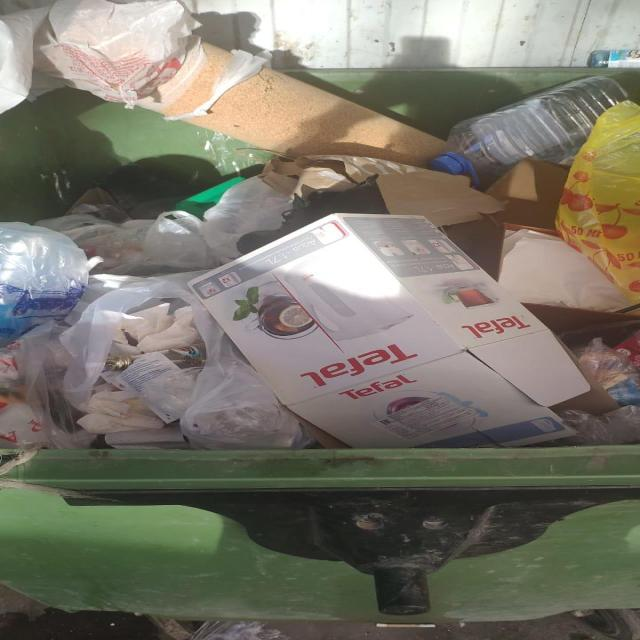litter: (0, 0, 638, 449)
